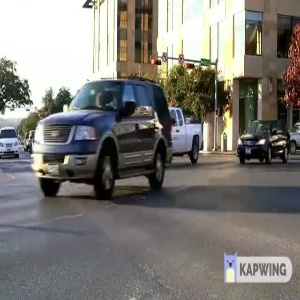car: (230, 121, 293, 174)
suv: (30, 81, 171, 207)
